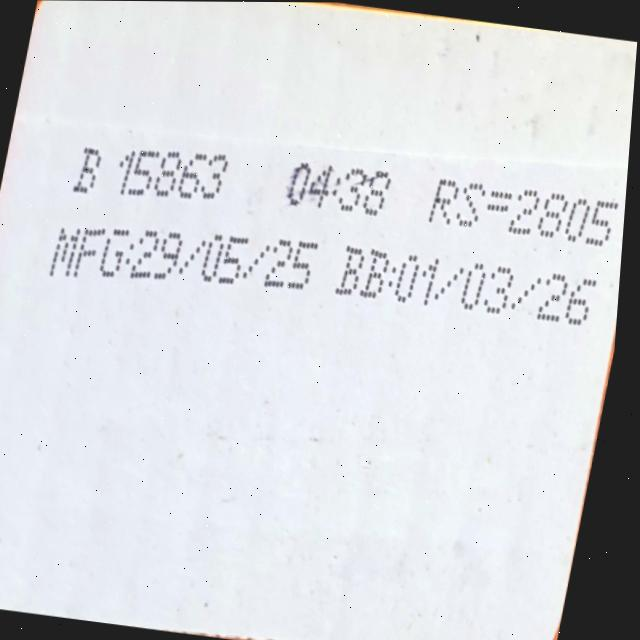BB: (329, 231, 614, 351)
Batch: (68, 120, 240, 224)
MFG: (43, 214, 331, 316)
RS: (420, 158, 629, 264)
TimeStamp: (272, 143, 403, 227)
